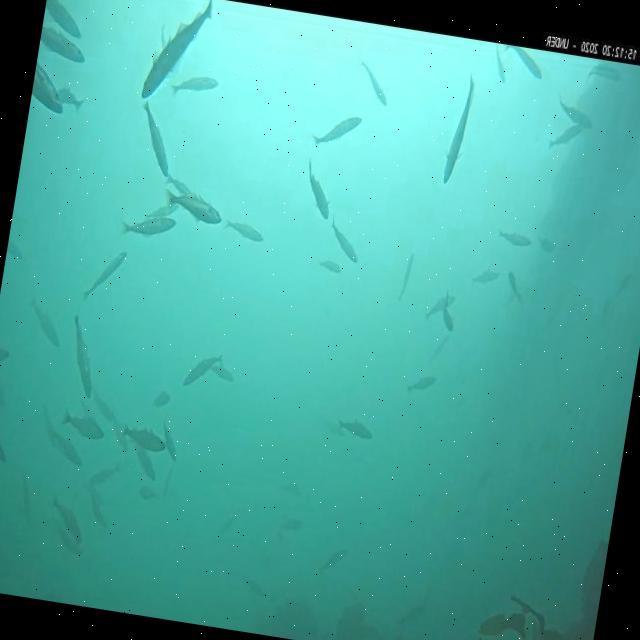fish: (140, 0, 216, 107), (441, 74, 478, 184), (62, 314, 104, 402), (130, 102, 178, 176), (80, 242, 128, 306), (162, 190, 222, 230), (300, 160, 337, 224), (22, 296, 66, 348), (310, 108, 362, 150), (30, 60, 70, 114), (354, 58, 394, 111), (40, 24, 90, 66), (120, 208, 177, 244), (46, 496, 86, 546), (182, 346, 225, 392), (168, 69, 220, 105), (41, 426, 87, 466), (42, 0, 87, 40), (326, 220, 364, 264), (58, 410, 108, 443), (584, 59, 625, 92), (555, 98, 597, 130), (120, 425, 168, 453), (546, 118, 582, 154), (87, 382, 117, 424), (508, 47, 546, 80), (130, 439, 162, 478), (224, 217, 267, 246), (88, 454, 123, 488), (156, 418, 182, 462), (336, 414, 374, 442), (396, 252, 416, 305), (424, 291, 456, 323), (319, 545, 349, 578), (497, 226, 533, 251), (488, 47, 511, 84), (207, 357, 238, 382), (54, 86, 86, 110), (438, 295, 458, 331), (406, 372, 436, 396), (474, 265, 502, 289), (504, 268, 524, 300), (0, 417, 12, 464), (135, 484, 159, 504), (150, 388, 170, 410), (316, 258, 343, 274), (156, 24, 170, 50), (0, 344, 10, 369)
